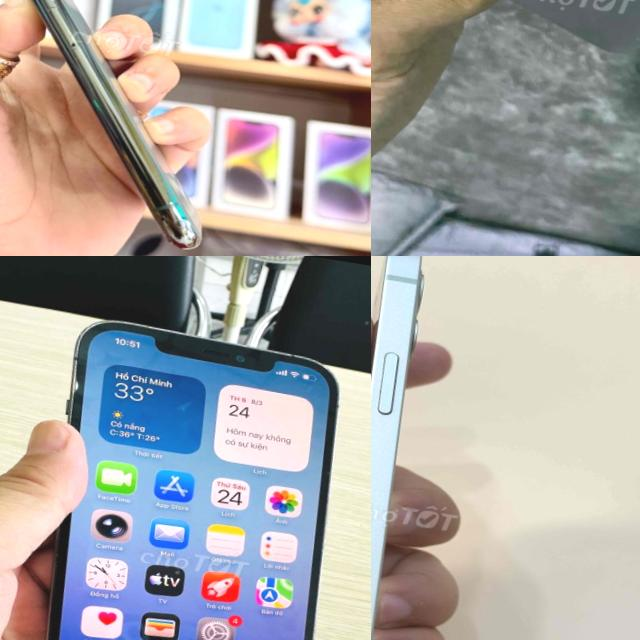gen_11: (32, 0, 201, 249)
gen_12_13: (4, 308, 371, 640), (371, 256, 456, 640)
